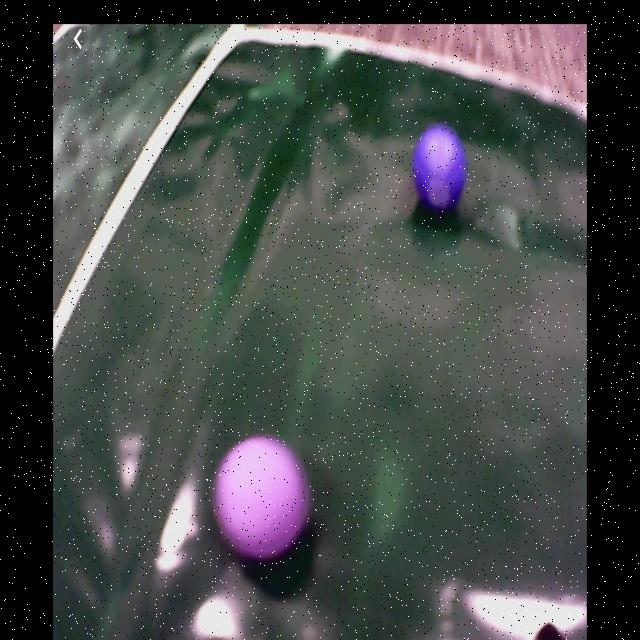ball: (214, 436, 313, 566), (415, 124, 468, 212)
